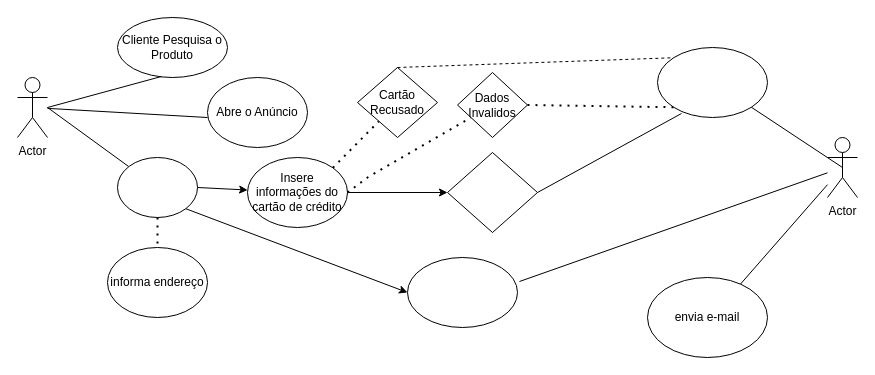
The diagram is 875 pixels wide and 375 high, and some of its shapes have lost their labels. The centre of each missing label's shape, as x and y in pixels:
"Fatura Compra" goes at pixel 462 292.
"finaliza compra" goes at pixel 157 187.
"Transação Aceita" goes at pixel 492 192.
"Valida Informações Cartão" goes at pixel 712 82.
